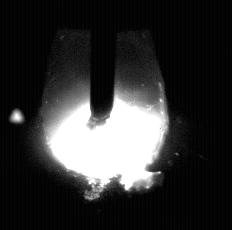arame: (91, 0, 115, 128)
poca: (43, 0, 169, 230)
